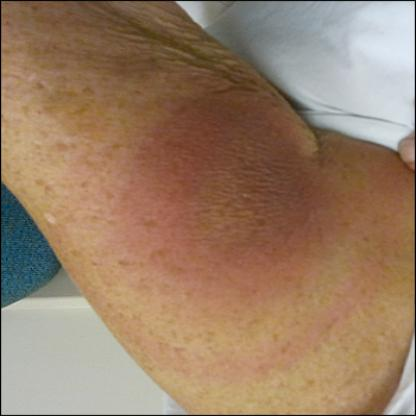Tick: (59, 86, 406, 392)
